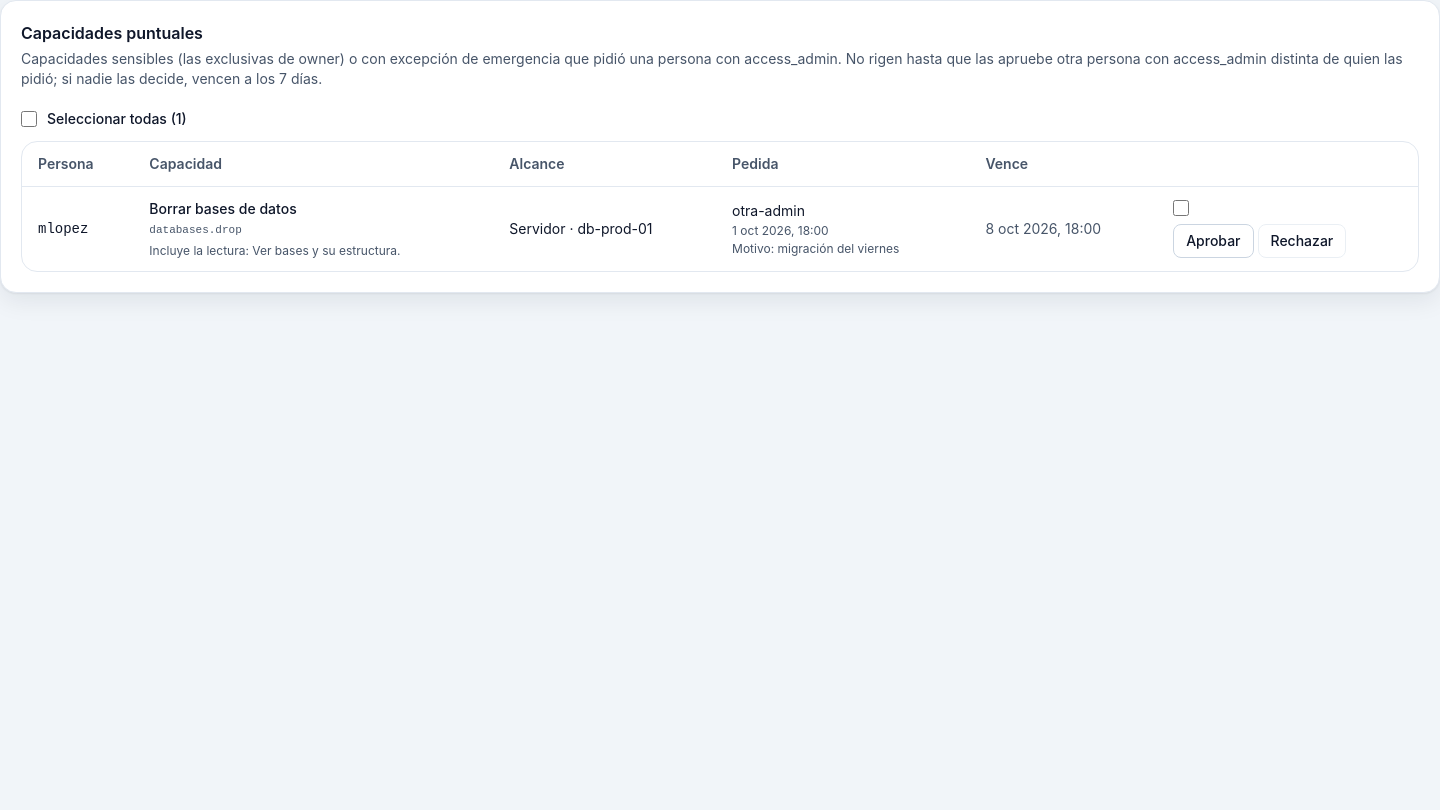
Test: PendingCapabilityGrantsCard › un 404 al decidir muestra que la capacidad ya no existe
Click the button with aria-label "Rechazar:". click: (1302, 241)
box: [1258,224,1346,258]
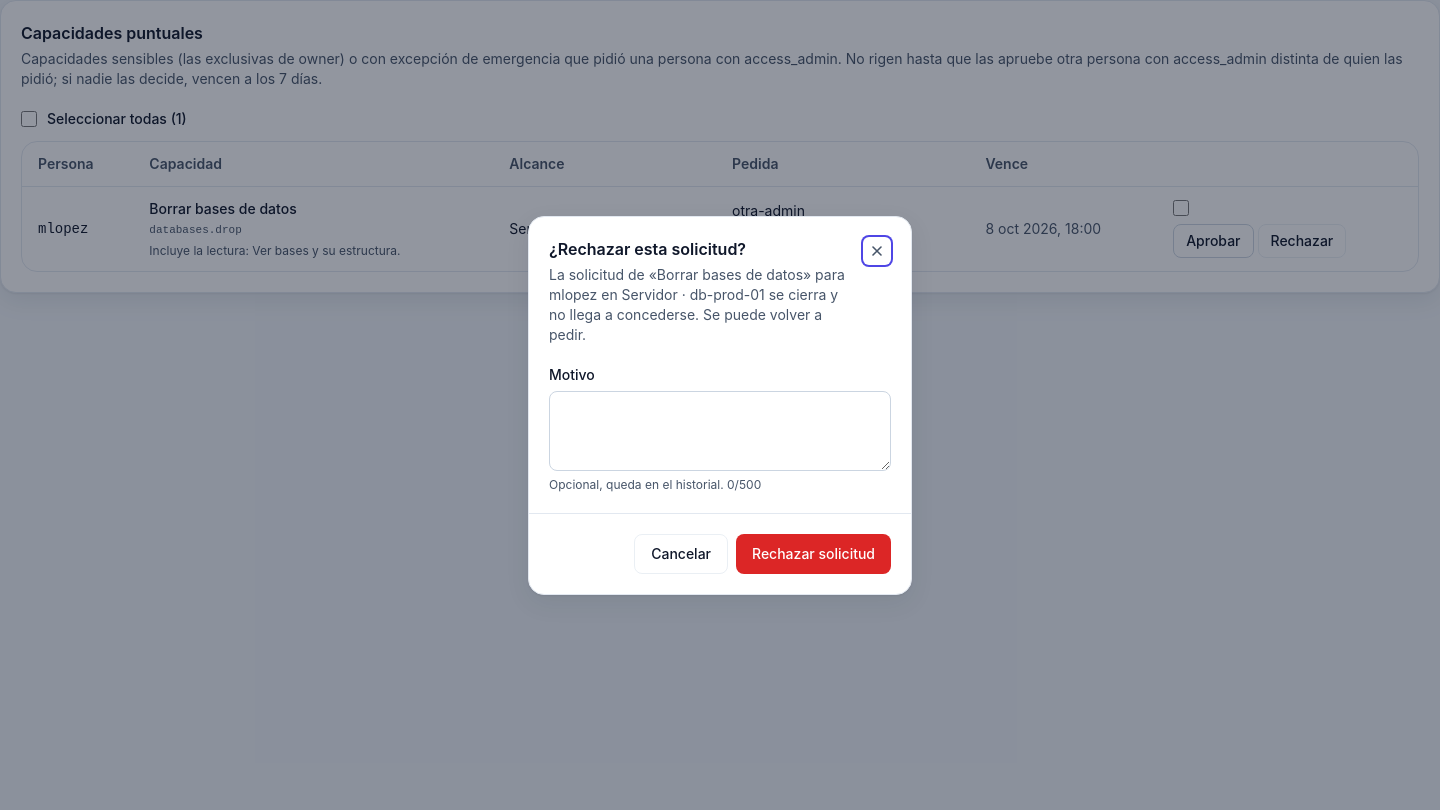
expect the heading "¿Rechazar esta solicitud?" is shown: met, box [549,238,746,258]
Click the button "Rechazar solicitud". click: (814, 554)
box: [736,534,891,574]
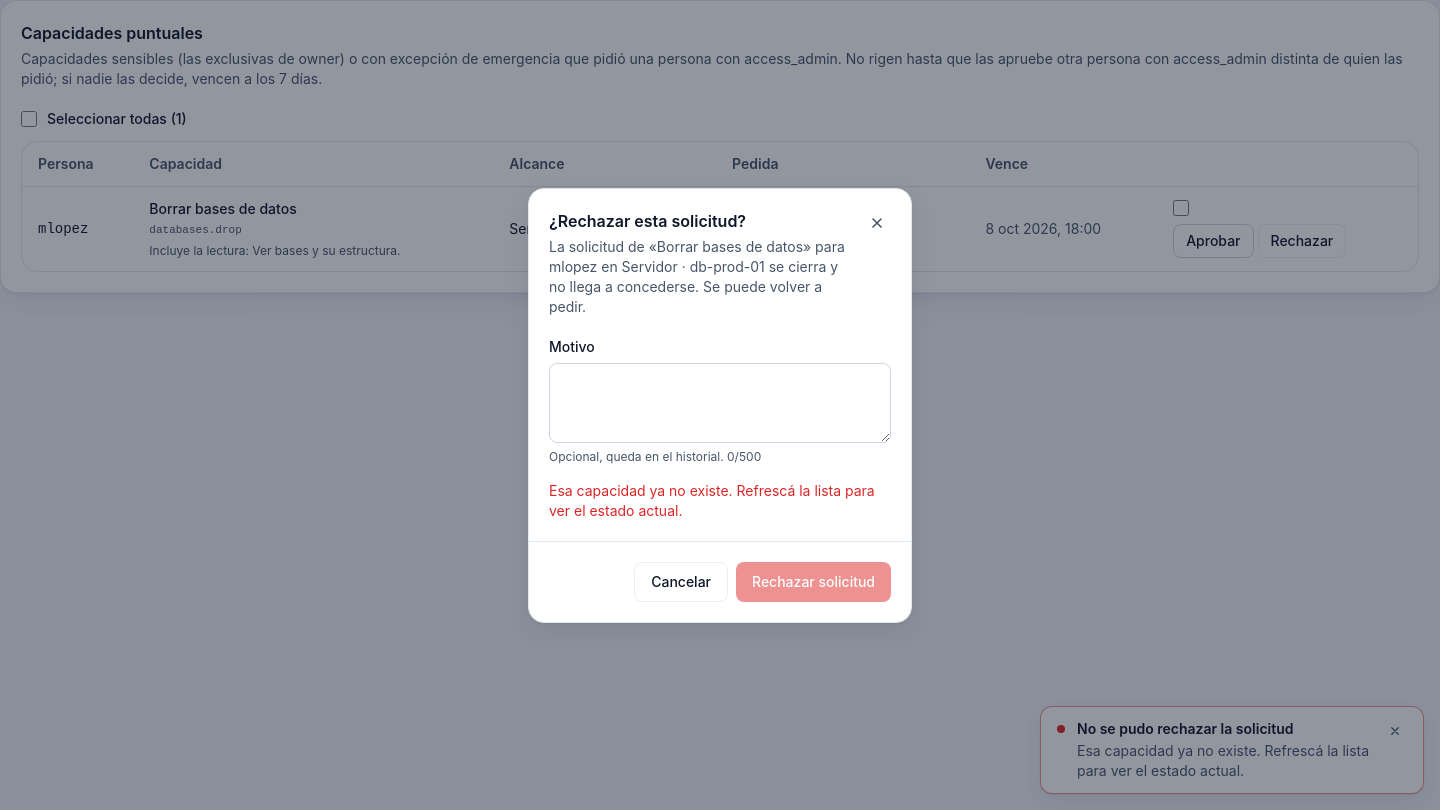
expect the message shows "ya no existe": met, box [549,482,875,518]
